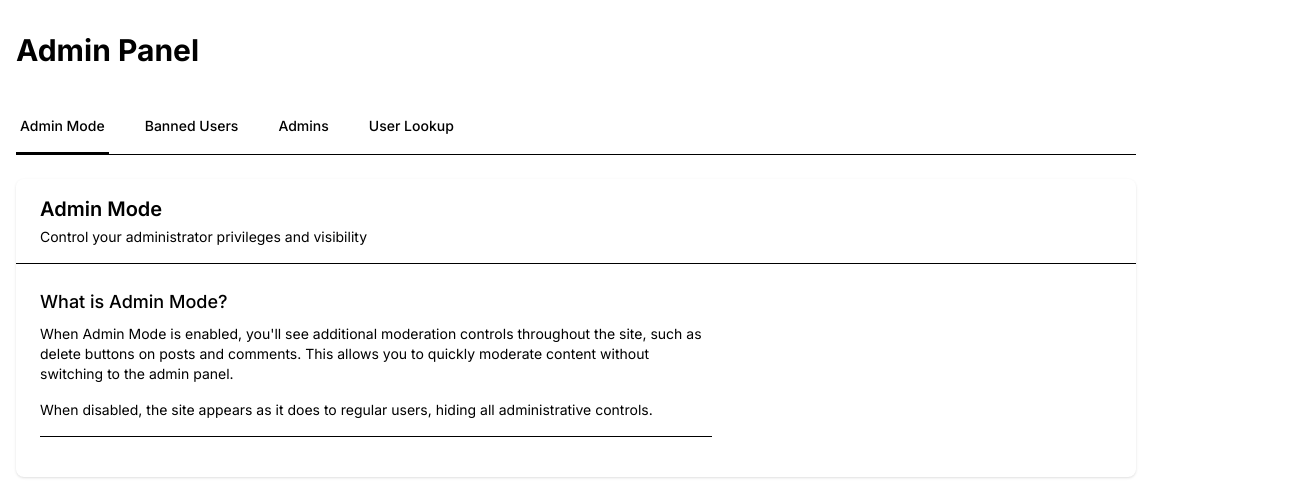
Test: AdminPage › Banned Users Tab › shows error alert when unban fails
Click on Banned Users tab
Click the button "Banned Users": click(192, 127) [141,100,242,154]
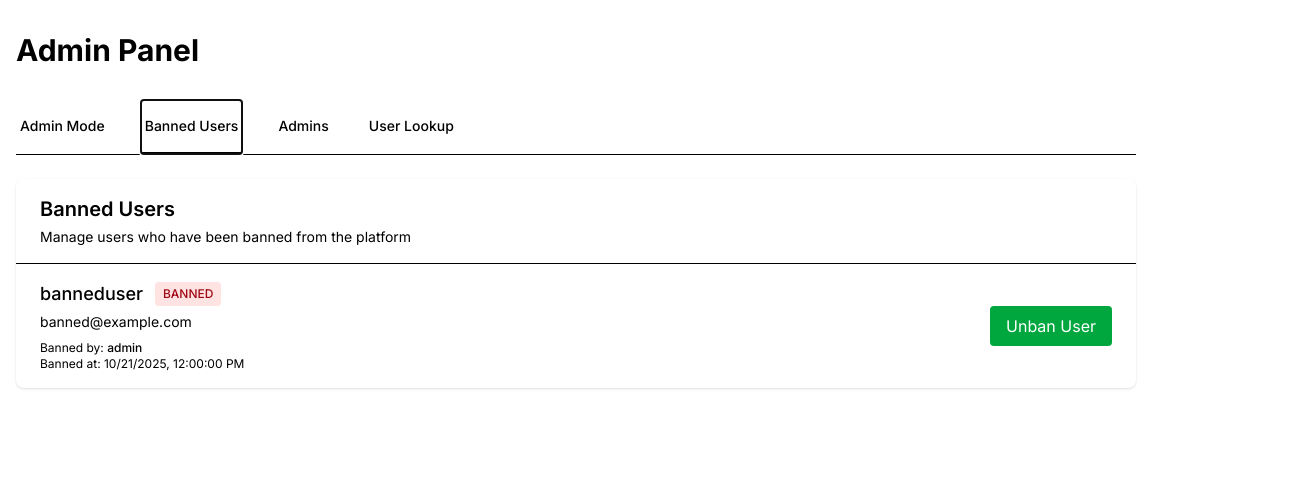
Result: the heading "banneduser" is shown at [40,280,143,308]
Click the button "Unban User": click(1051, 326) [990,306,1112,346]
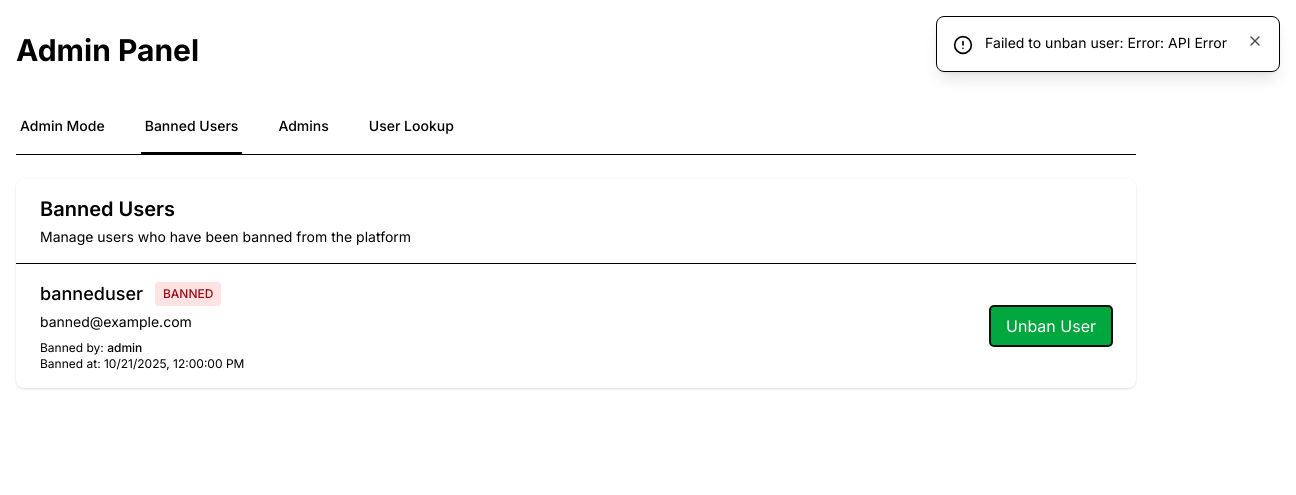
Result: the text "Failed to unban user: Error: API Error" is shown at [985,33,1227,53]
